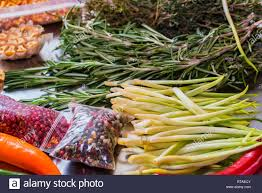Lettuce: (73, 25, 240, 57)
